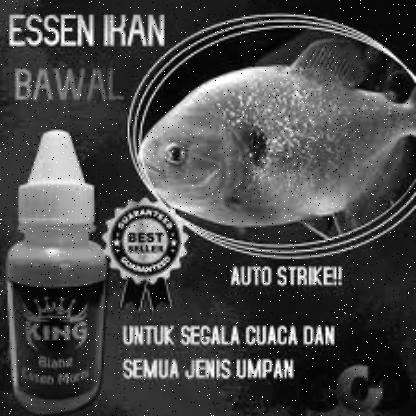ikan-pacu: (144, 50, 408, 224)
